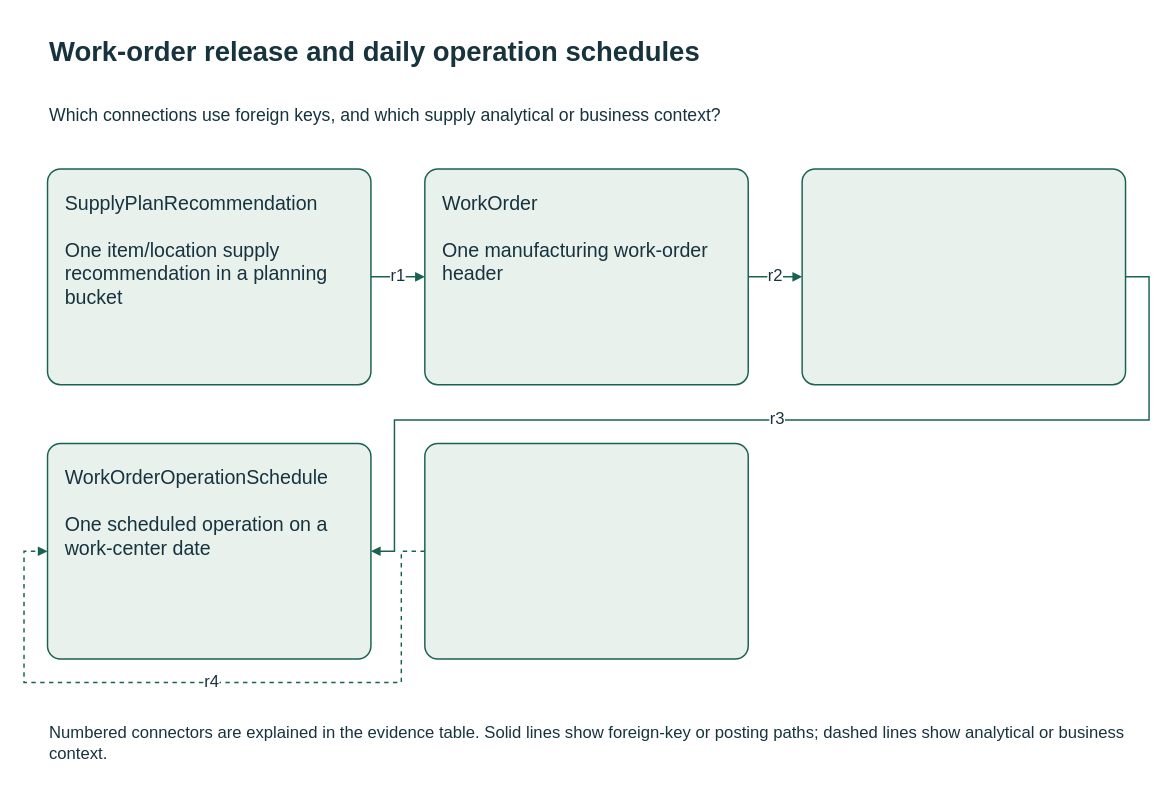
Some shapes in this 1175 by 789 pixel diagram are drawn without their labels. The shapes that lost their labels are listed below. From the top down, each one's box as (x1, y1, x2, y2) in pixels, then its label:
(801, 168, 1126, 385): WorkOrderOperation One operation within a work order
(424, 442, 749, 659): WorkCenterCalendar One work center on one calendar date
